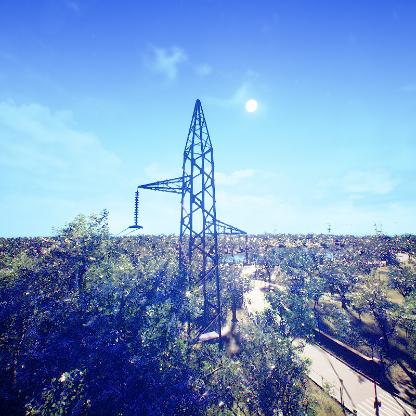tower: (128, 94, 256, 388)
